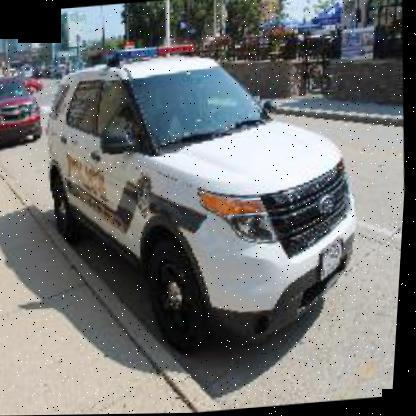emergency: (23, 23, 382, 370)
